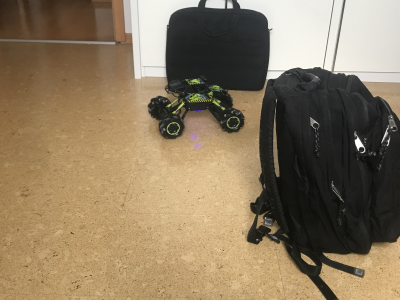remote control car: (146, 74, 246, 141)
